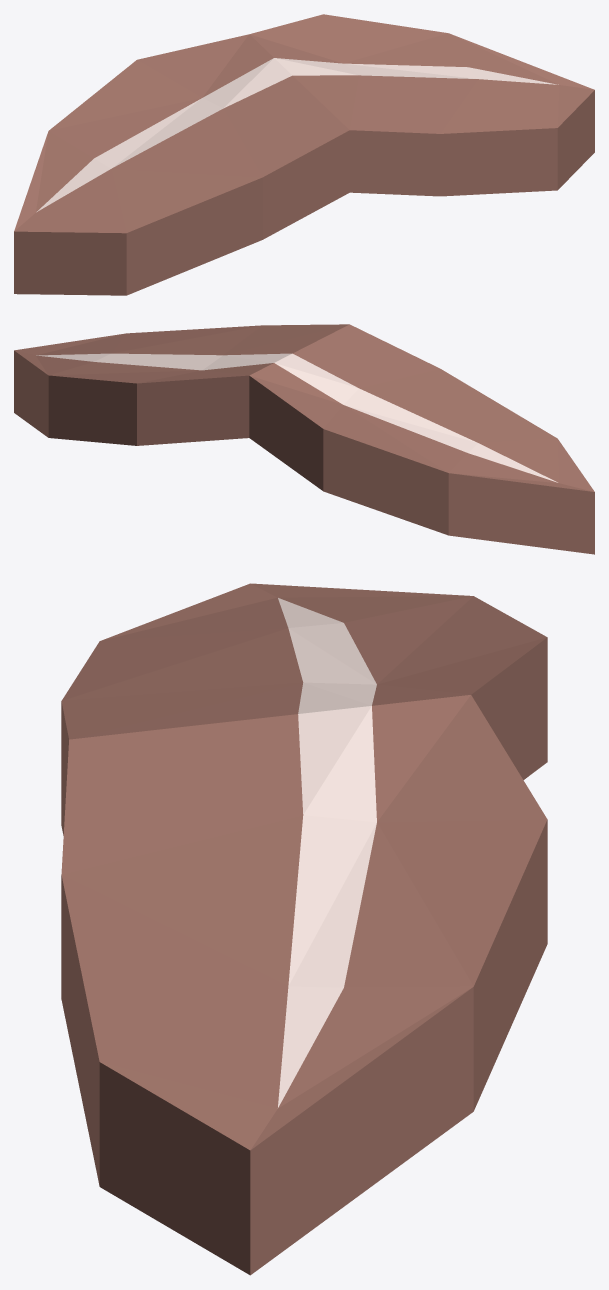
The model's file is Mouth 03.FBX.
The picture shows the model from 3 angles, top to bottom: view 1: azimuth 30°, elevation 25°; view 2: azimuth 150°, elevation 25°; view 3: azimuth 270°, elevation 25°; orthographic projection. The views are drawn at different scales.
Visible parts, largest first — view 1: Mouth 03; view 2: Mouth 03; view 3: Mouth 03.
Part boxes in pixels (bbox=[...]): Mouth 03: bbox=[14, 14, 594, 295]; Mouth 03: bbox=[14, 324, 594, 554]; Mouth 03: bbox=[61, 583, 547, 1275].
Bounding box in the file's own units: 8 × 2.9 × 1.95.
Materials: 1 (1 with a texture image).
